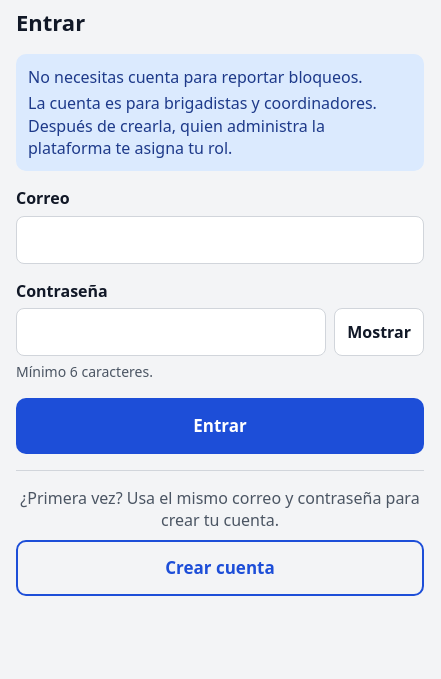
Test: IniciarSesion › crear cuenta con contraseña corta dice qué falta y no la crea
Type "nuevo@ejemplo.mx" into the field labelled "Correo" at coordinates (220, 240), box [16,216,424,264]
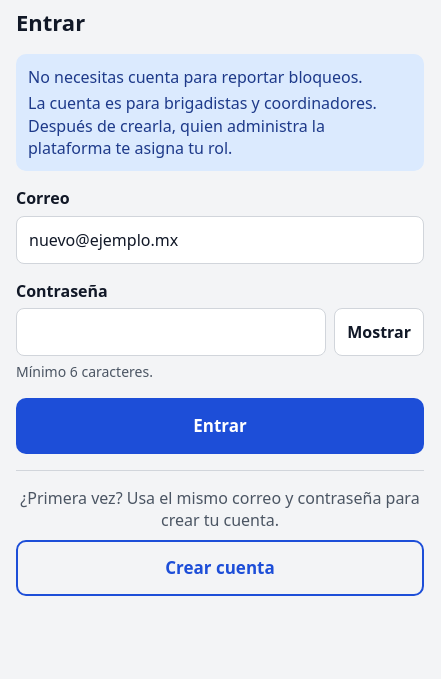
Type "123" into the password field labelled "Contraseña" at coordinates (171, 332), box [16,308,326,356]
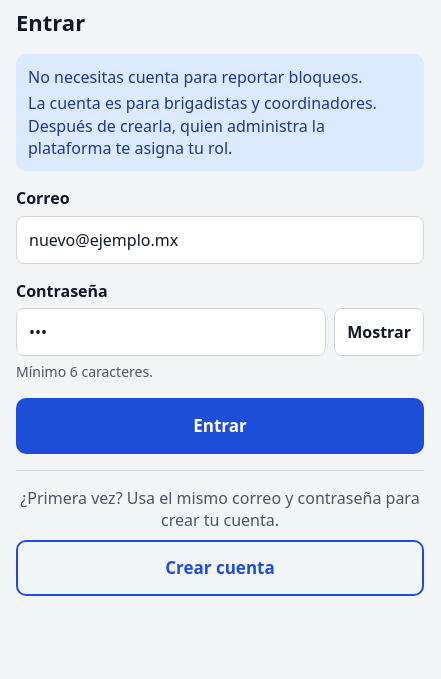
Click the button "Crear cuenta" at coordinates (220, 568), box [16,540,424,596]
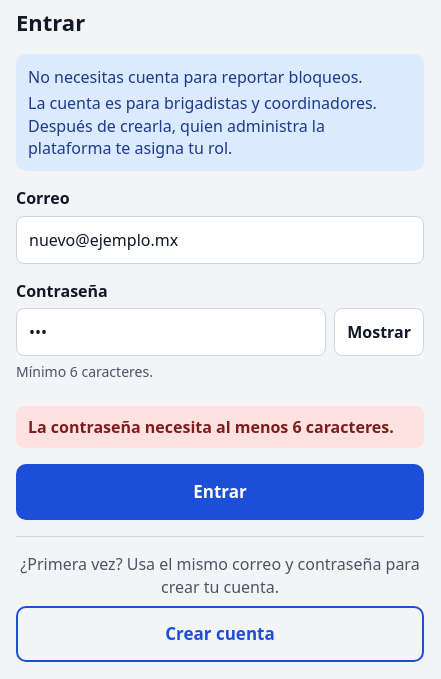
Expected: the message reads "La contraseña necesita al menos 6 caracteres.", [28,416,394,438]
